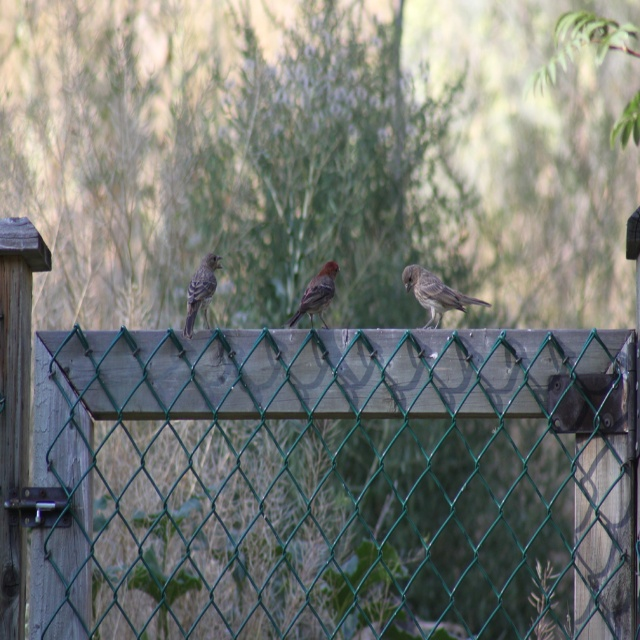Sparrow: (402, 261, 494, 330), (288, 260, 340, 324), (183, 252, 222, 337)
